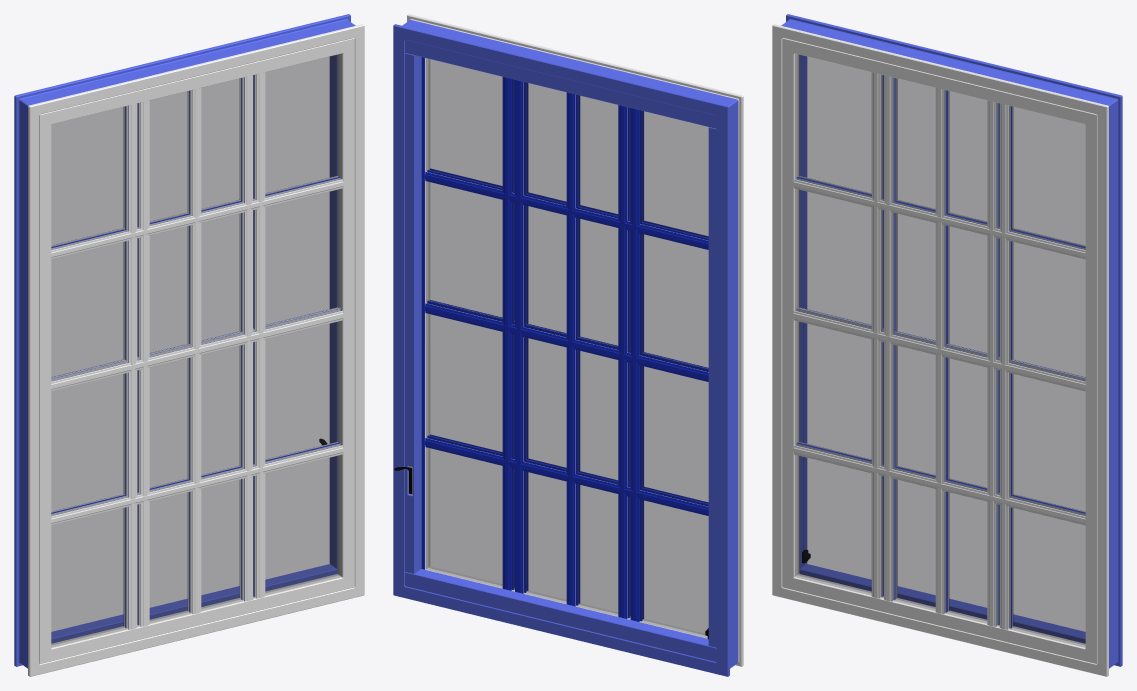
Rendered from Impervia_Casement.glb.
The picture shows the model from 3 angles, left to right: view 1: azimuth 30°, elevation 25°; view 2: azimuth 150°, elevation 25°; view 3: azimuth 330°, elevation 25°; orthographic projection.
Visible parts, largest first — view 1: glass1, window, frame1, sdl2, sdl3, sdl0, bar2, bar1, flat2, flat3; view 2: glass1, window, sdl2, bar2, sdl3, bar1, sdl0, frame1, flat2, flat3, flat0; view 3: glass1, window, frame1, sdl2, sdl3, sdl0, bar2, flat2, bar1, flat3, flat0, gbg2.
Part boxes in pixels (x1,y1,x2,y2): glass1: [51, 54, 341, 647]; window: [14, 14, 364, 676]; frame1: [39, 38, 354, 663]; sdl2: [51, 75, 343, 626]; sdl3: [123, 72, 265, 629]; sdl0: [51, 88, 343, 614]; bar2: [329, 55, 337, 568]; bar1: [51, 564, 337, 643]; flat2: [51, 308, 340, 514]; flat3: [125, 106, 126, 628]; glass1: [426, 58, 708, 637]; window: [393, 14, 743, 676]; sdl2: [425, 80, 708, 618]; bar2: [405, 53, 716, 647]; sdl3: [502, 77, 644, 621]; bar1: [405, 40, 716, 661]; sdl0: [425, 92, 708, 606]; frame1: [421, 57, 707, 638]; flat2: [427, 82, 708, 618]; flat3: [511, 79, 642, 621]; flat0: [576, 94, 577, 605]; glass1: [795, 54, 1085, 647]; window: [772, 14, 1122, 676]; frame1: [782, 38, 1097, 663]; sdl2: [793, 75, 1085, 626]; sdl3: [871, 72, 1013, 629]; sdl0: [793, 88, 1085, 614]; bar2: [799, 55, 807, 568]; flat2: [796, 78, 1085, 625]; bar1: [799, 564, 1085, 643]; flat3: [1010, 106, 1011, 628]; flat0: [946, 90, 947, 612]; gbg2: [797, 78, 1085, 599].
Size of the model in its own units: 0.7966 by 1.3 by 0.1199.
